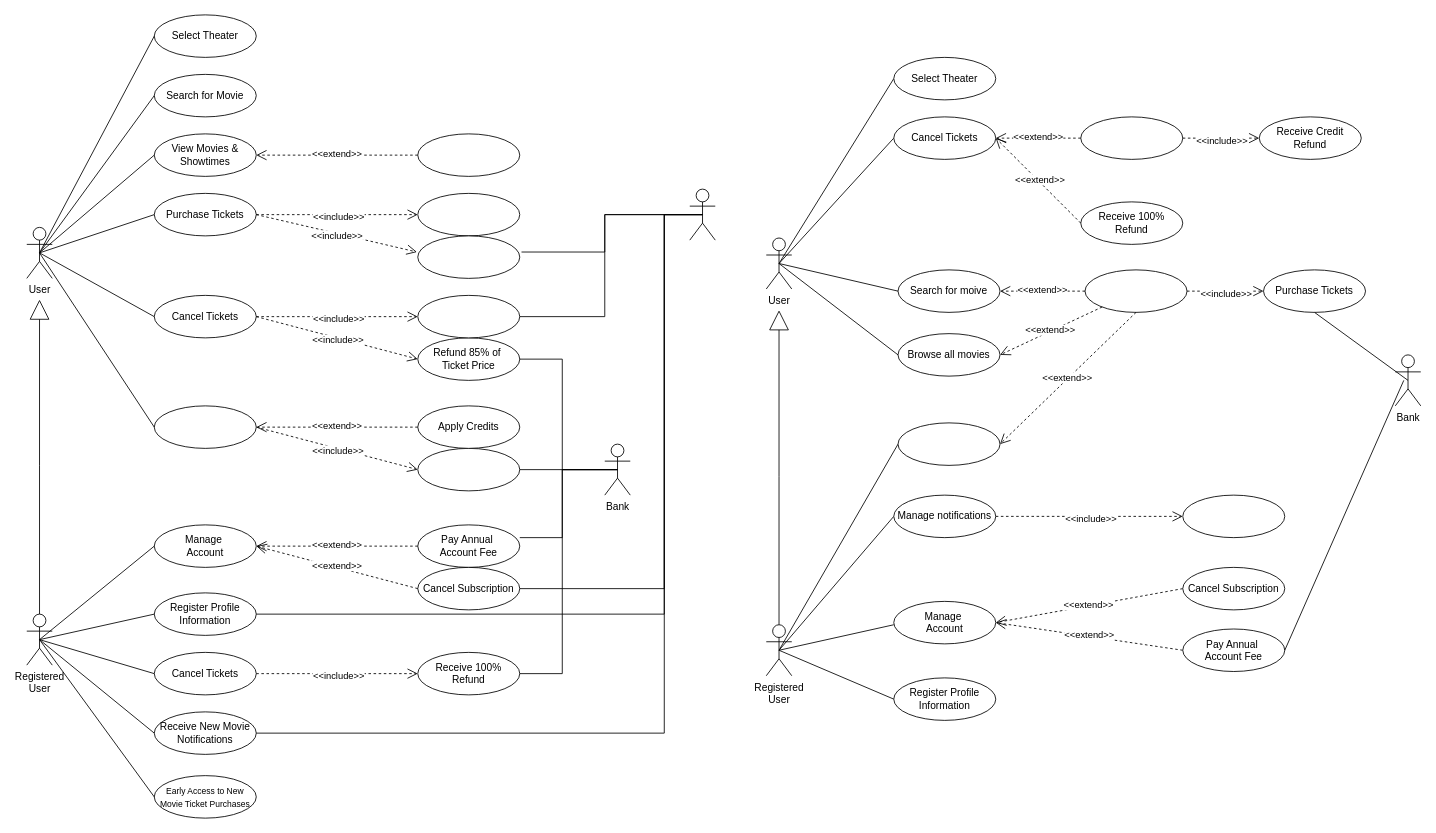
Image size: 1436x833. Some labels were removed from this diagram. The centre of each missing label's shape, as x and y in pixels:
AcmePlexApp: pixel 702 214
Make Payment: pixel 204 426
Opt in/out of notifications: pixel 1233 516
Pay with Credit Card: pixel 468 469
Pay15% Administration Fee: pixel 1131 137
Receive 15% Administration Fee Credit: pixel 468 316
Receive Ticket and Receipt via Email: pixel 468 256
Select Desired Seats: pixel 468 214
Select showtime: pixel 1135 290
View Available Seats: pixel 468 154
View Early Access movies: pixel 948 443
